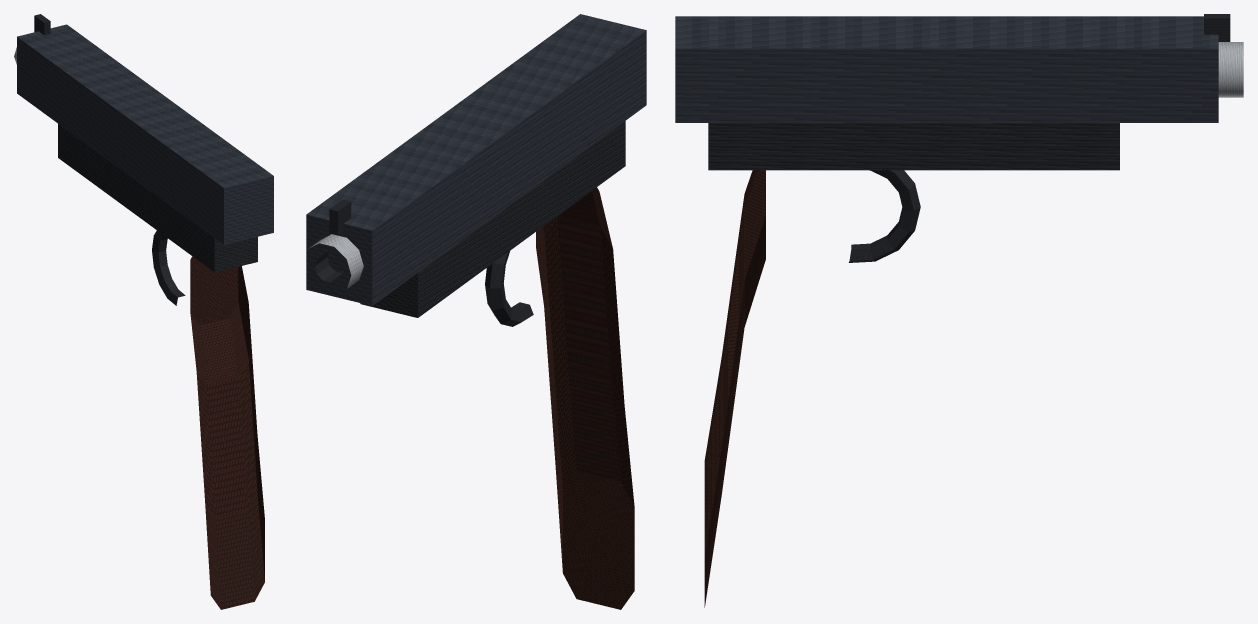
3 renders of one model, left to right at view 1: azimuth 30°, elevation 25°; view 2: azimuth 150°, elevation 25°; view 3: azimuth 270°, elevation 25°, orthographic. The views are drawn at different scales.
Visible parts, largest first — view 1: WeaponMesh; view 2: WeaponMesh; view 3: WeaponMesh.
Boxes of the visible parts, x1,y1,x2,y2 form: WeaponMesh: [14, 14, 273, 609]; WeaponMesh: [306, 14, 646, 609]; WeaponMesh: [675, 14, 1243, 607].
Bounding box in the file's own units: 0.025 × 0.1954 × 0.1725.
4 materials, 4 textured.
